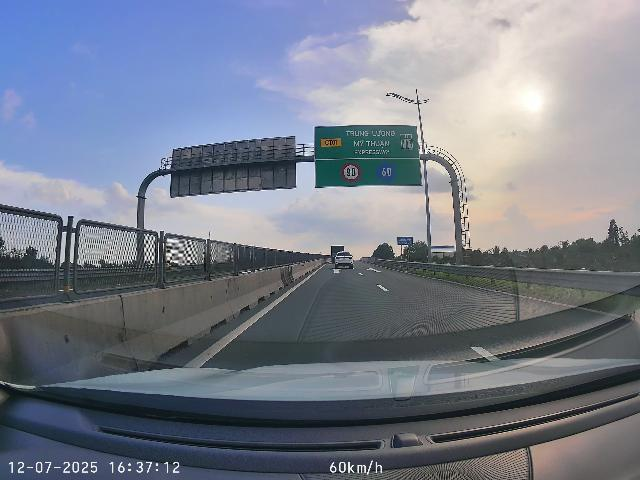127-toc-do-toi-da-90: (341, 162, 361, 183)
306-toc-do-toi-thieu-60: (377, 162, 396, 181)
437-bat-dau-duong-cao-toc: (400, 133, 414, 150)
